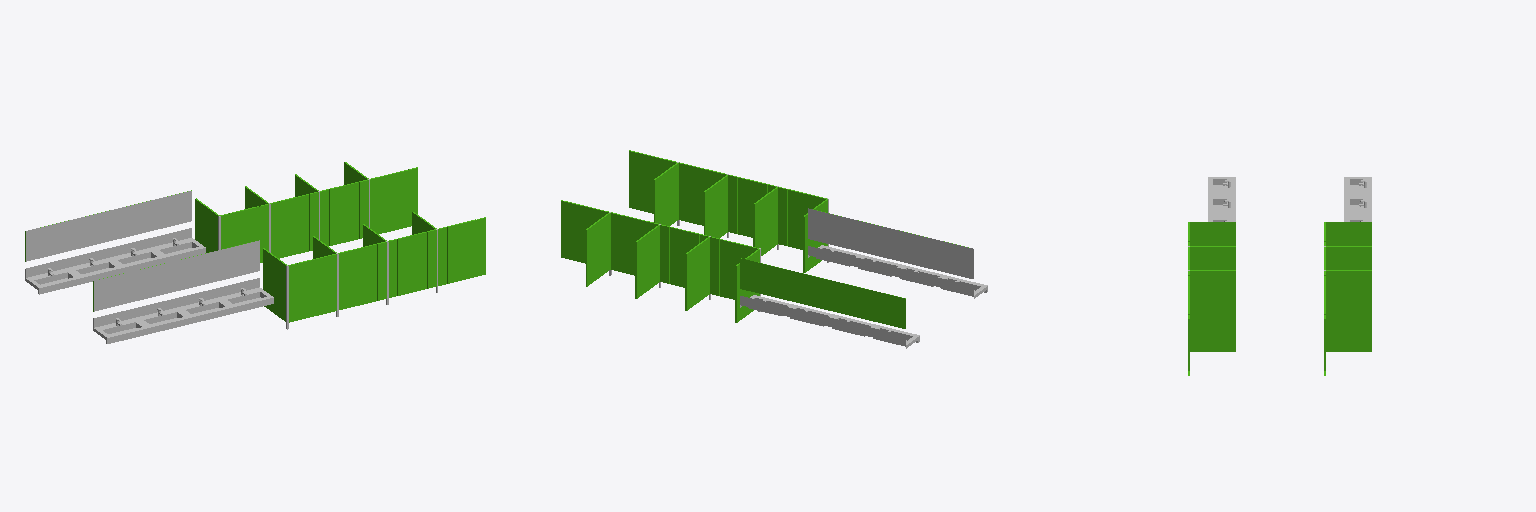
The model's file is Baños.obj.
The picture shows the model from 3 angles: view 1: azimuth 30°, elevation 25°; view 2: azimuth 150°, elevation 25°; view 3: azimuth 270°, elevation 25°; orthographic projection.
Parts seen in each view (by area): view 1: Plane.002_Plane.005, Plane.001_Plane.003; view 2: Plane.001_Plane.003, Plane.002_Plane.005; view 3: Plane.002_Plane.005, Plane.001_Plane.003.
Part boxes in pixels (x1,y1,x2,y2): Plane.002_Plane.005: (93,212,485,343); Plane.001_Plane.003: (25,162,417,294); Plane.001_Plane.003: (561,200,919,348); Plane.002_Plane.005: (629,150,987,298); Plane.002_Plane.005: (1188,177,1235,375); Plane.001_Plane.003: (1324,177,1371,375).
Size of the model in its own units: 12.22 by 2.29 by 5.31.